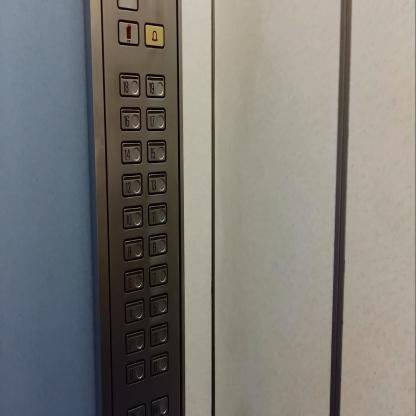10: (121, 203, 144, 230)
11: (147, 200, 168, 227)
12: (121, 171, 143, 198)
13: (146, 169, 168, 196)
14: (119, 138, 142, 165)
15: (145, 138, 167, 164)
16: (119, 104, 142, 132)
17: (145, 105, 167, 132)
18: (118, 70, 141, 98)
19: (144, 72, 166, 99)
2: (124, 327, 146, 355)
3: (148, 321, 169, 348)
4: (123, 296, 145, 324)
5: (148, 291, 168, 318)
6: (122, 267, 145, 294)
7: (148, 261, 168, 288)
8: (122, 235, 144, 262)
9: (147, 231, 168, 257)
B: (124, 357, 146, 386)
G: (149, 350, 169, 378)
alarm: (143, 20, 166, 51)
bt_switch: (116, 18, 140, 48)
close: (150, 392, 170, 416)
